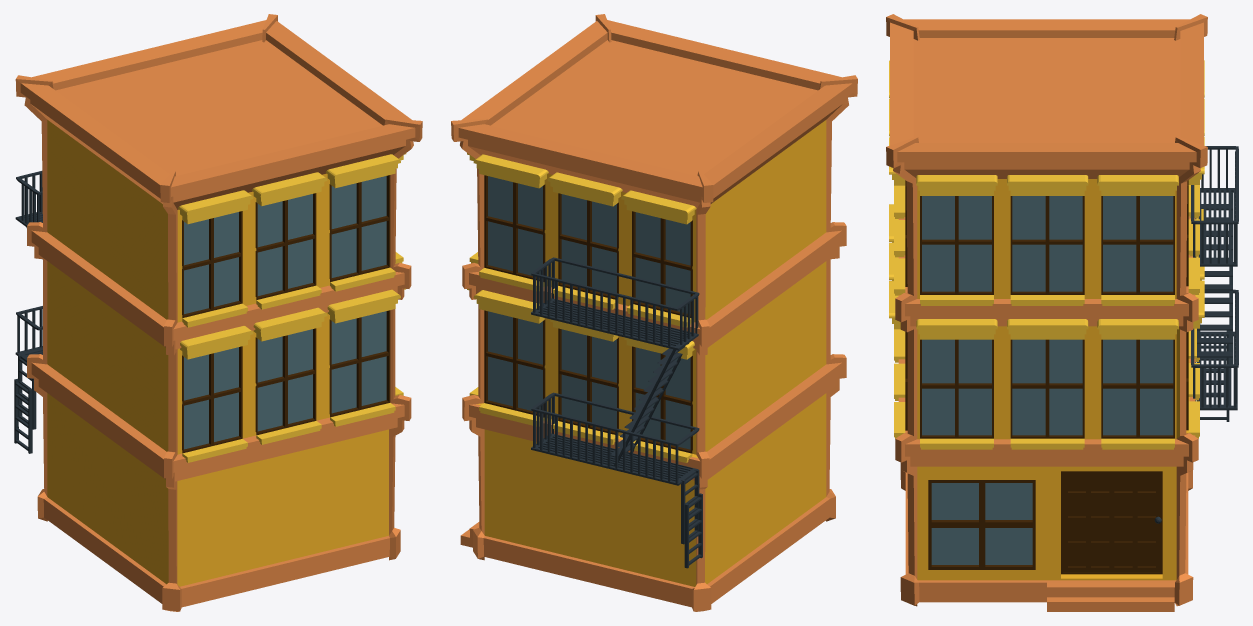
Rendered from 3-Ladder Yellow.fbx.
3 renders of one model, left to right at view 1: azimuth 30°, elevation 25°; view 2: azimuth 150°, elevation 25°; view 3: azimuth 270°, elevation 25°, orthographic. The views are drawn at different scales.
Visible parts, largest first — view 1: Cube; view 2: Cube; view 3: Cube.
Part boxes in pixels (x1,y1,x2,y2): Cube: (14, 14, 422, 611); Cube: (451, 14, 857, 611); Cube: (886, 14, 1238, 611).
Bounding box in the file's own units: 1558 × 1435 × 2274.
